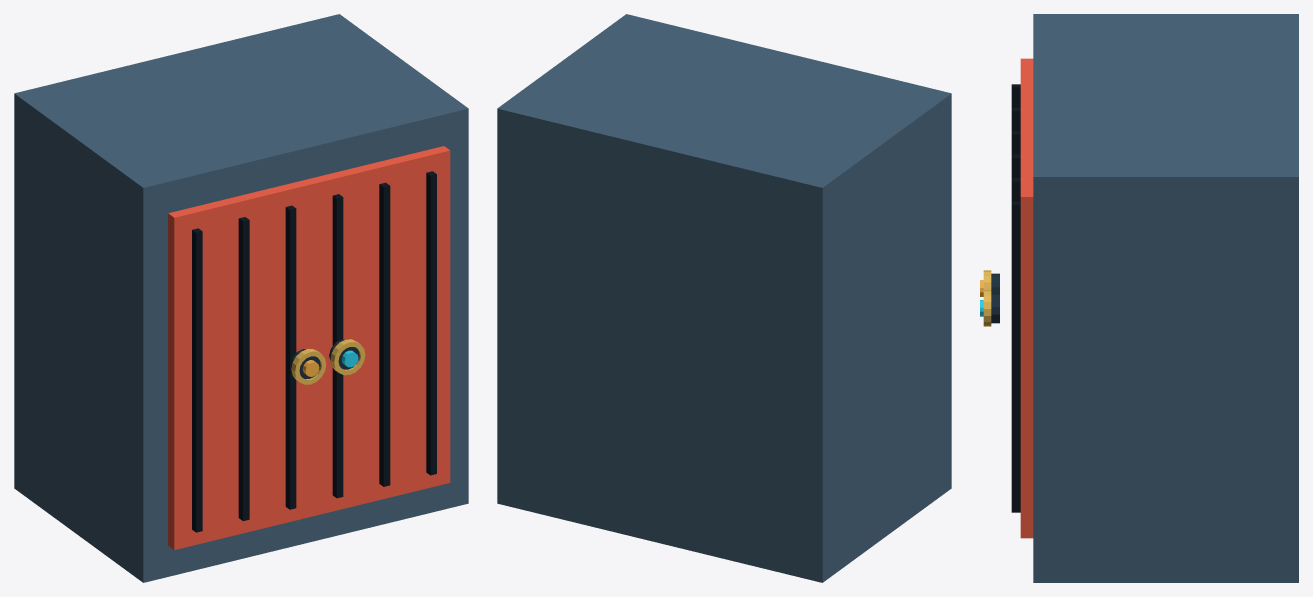
The model's file is 25_L81_MemoryPageQuarantineModule.fbx.
3 views of the same model, side by side, from view 1: azimuth 30°, elevation 25°; view 2: azimuth 150°, elevation 25°; view 3: azimuth 270°, elevation 25° (orthographic). The views are drawn at different scales.
Parts seen in each view (by area): view 1: MemoryPageQuarantineModule; view 2: MemoryPageQuarantineModule; view 3: MemoryPageQuarantineModule.
Boxes of the visible parts, x1,y1,x2,y2 form: MemoryPageQuarantineModule: (14,14,468,582); MemoryPageQuarantineModule: (497,14,951,582); MemoryPageQuarantineModule: (980,14,1298,582).
Bounding box in the file's own units: 125 × 145 × 103.
